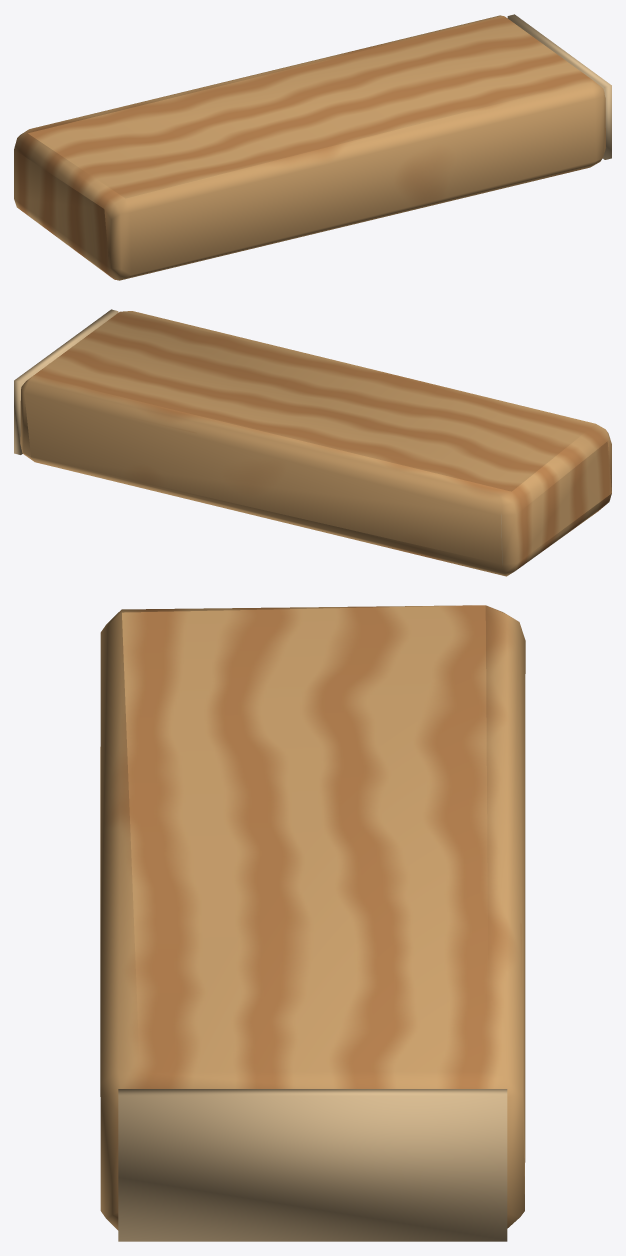
Rendered from item_plank.glb.
The picture shows the model from 3 angles, top to bottom: view 1: azimuth 30°, elevation 25°; view 2: azimuth 150°, elevation 25°; view 3: azimuth 270°, elevation 25°; orthographic projection. The views are drawn at different scales.
Visible parts, largest first — view 1: end; view 2: end; view 3: end.
Boxes of the visible parts, <box> form: end: <box>14,14,611,280</box>; end: <box>14,309,611,576</box>; end: <box>100,605,525,1241</box>.
Size of the model in its own units: 0.8644 by 0.1366 by 0.3169.
Materials: 1 (1 with a texture image).
